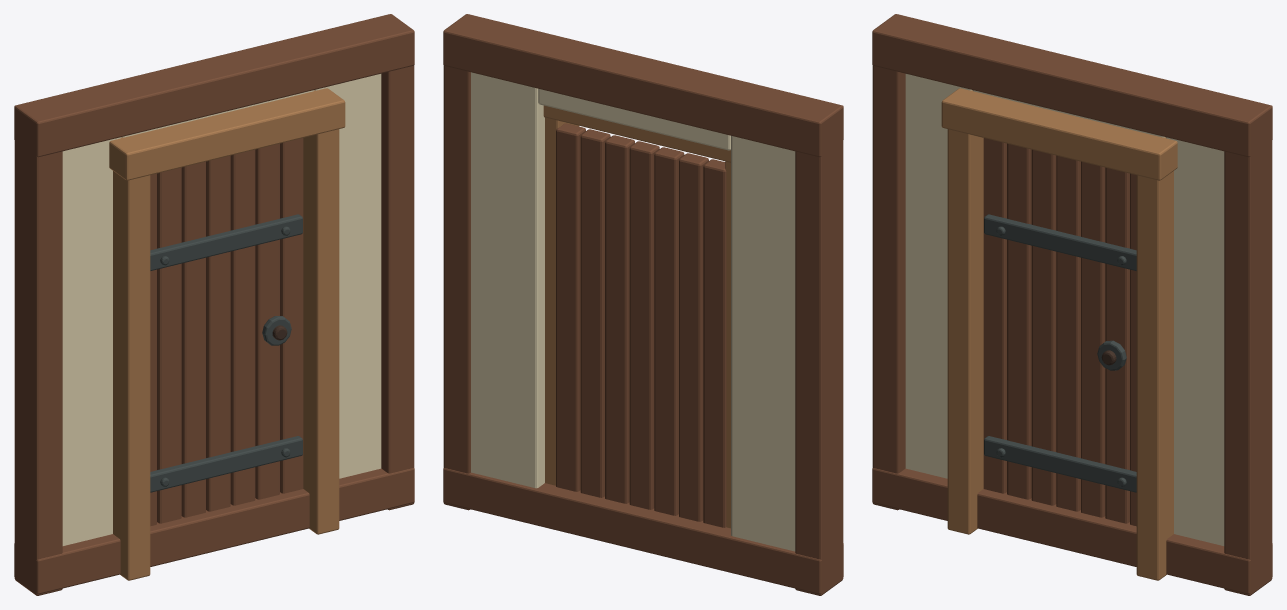
File: wall_door_2m.glb
3 views of the same model, side by side, from view 1: azimuth 30°, elevation 25°; view 2: azimuth 150°, elevation 25°; view 3: azimuth 330°, elevation 25° (orthographic).
Visible parts, largest first — view 1: wall_door_2m__structure, wall_door_2m__finish; view 2: wall_door_2m__finish, wall_door_2m__structure; view 3: wall_door_2m__structure, wall_door_2m__finish.
Boxes of the visible parts, box(x1,y1,x2,y2) form: wall_door_2m__structure: box(14, 14, 414, 595); wall_door_2m__finish: box(62, 74, 381, 545); wall_door_2m__finish: box(471, 72, 795, 551); wall_door_2m__structure: box(443, 14, 843, 595); wall_door_2m__structure: box(872, 14, 1272, 595); wall_door_2m__finish: box(905, 74, 1224, 545).
Bounding box in the file's own units: 2 × 2.4 × 0.31.
